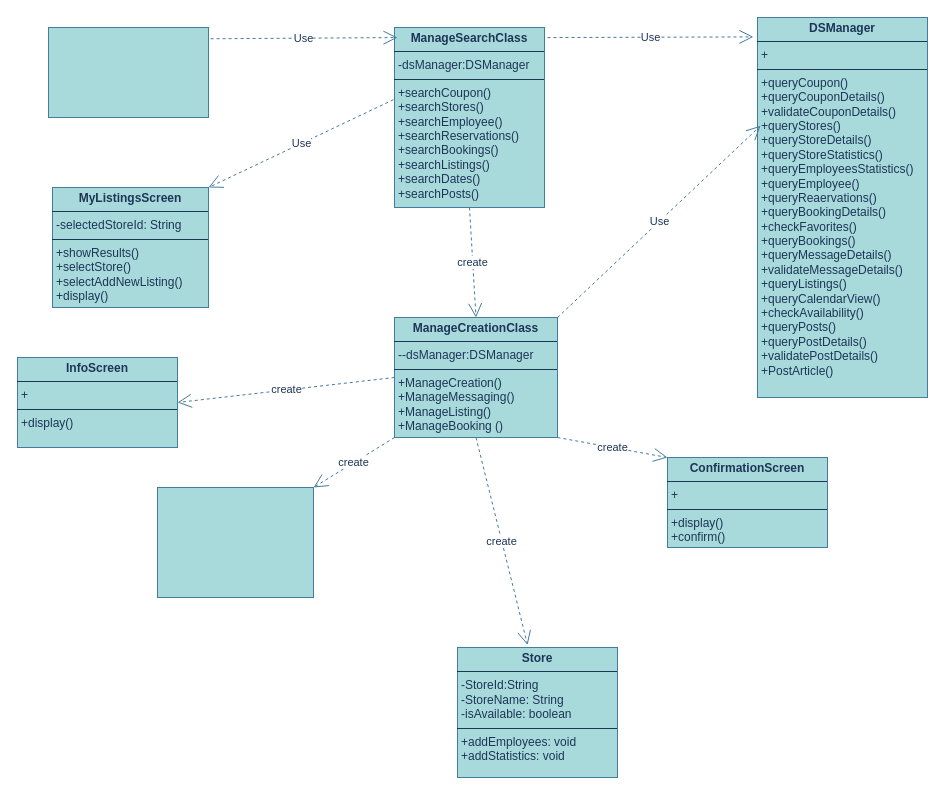
Image size: 945x795. Some labels were removed from this diagram. The centre of each missing label's shape, as x and y in pixels:
"AddNewListingScreen + + display() +submit() +checkListingDetails()" goes at point 235,542.
"DashboardScreen + +display() +startSearch()" goes at point 128,72.
